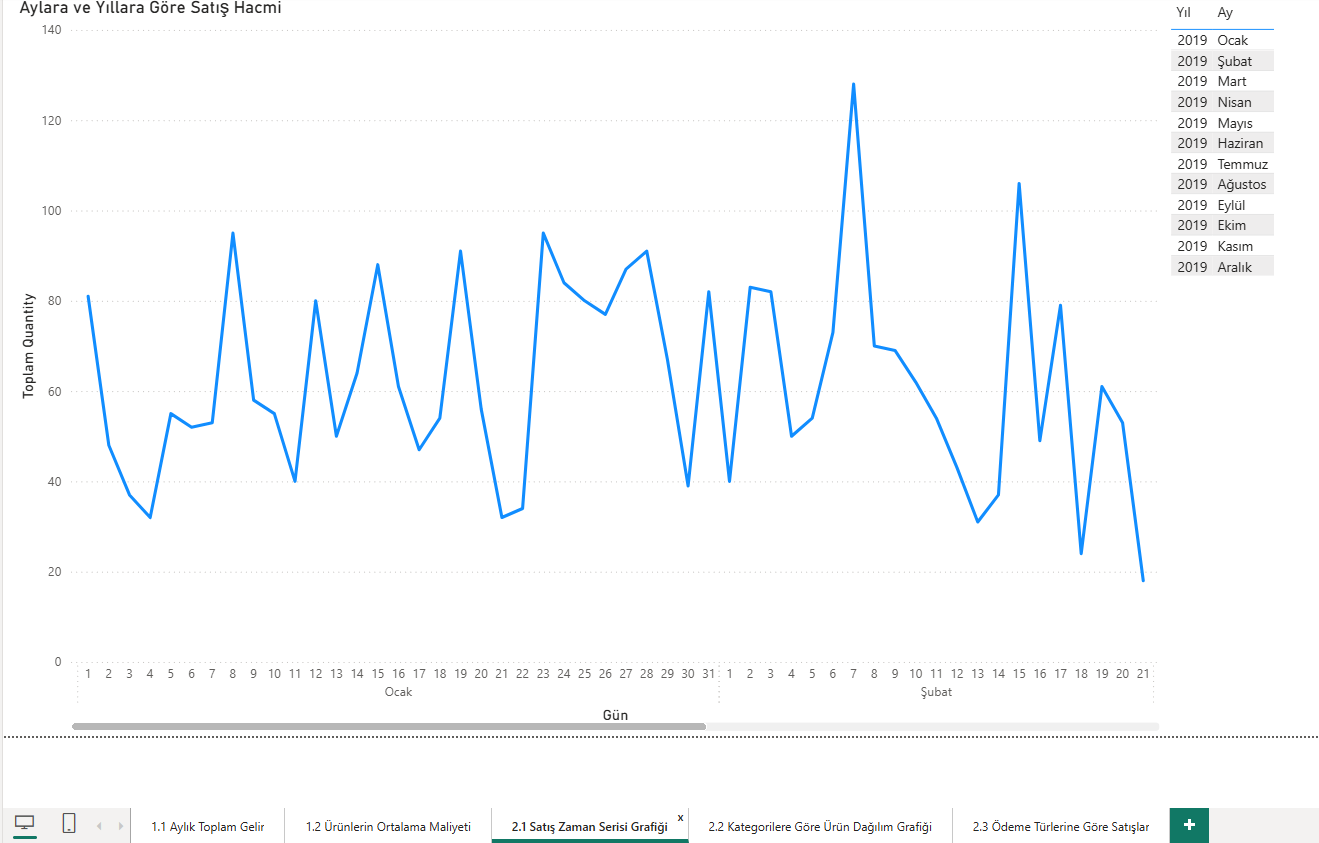

The dashboard page shown, as its layout file describes it:
{"tool":"powerbi","page":{"name":"2.1 Satış Zaman Serisi Grafiği","canvas":[1280,720],"ordinal":2},"visuals":[{"type":"lineChart","title":"Aylara ve Yıllara Göre Satış Hacmi","fields":{"Category":["supermarket_sales - Sheet1.Date.Varyasyon.Tarih Hiyerarşisi.Ay","supermarket_sales - Sheet1.Date.Varyasyon.Tarih Hiyerarşisi.Gün"],"Y":["Sum(supermarket_sales - Sheet1.Quantity)"]},"box":[10.4,0,1119.5,719.7],"z":0},{"type":"tableEx","fields":{"Values":["supermarket_sales - Sheet1.Date.Varyasyon.Tarih Hiyerarşisi.Yıl","supermarket_sales - Sheet1.Date.Varyasyon.Tarih Hiyerarşisi.Ay"]},"box":[1130,0,150,719.7],"z":1}]}

Visuals, with their boxes on the page's 1280x720 design canvas (x1, y1, x2, y2). These are canvas units, not pixel positions in the 1319x843 screenshot, which may show the page scaled, cropped or inside an application window:
"Aylara ve Yıllara Göre Satış Hacmi" lineChart: crop(10, 0, 1130, 720)
tableEx - supermarket_sales - Sheet1.Date.Varyasyon.Tarih Hiyerarşisi.Yıl x supermarket_sales - Sheet1.Date.Varyasyon.Tarih Hiyerarşisi.Ay: crop(1130, 0, 1280, 720)
